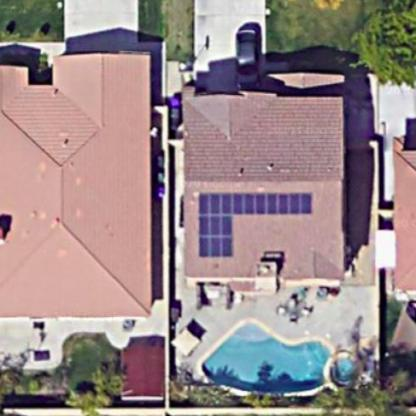car: (228, 23, 266, 91)
solar_panel: (189, 182, 320, 262)
swimming_pool: (184, 309, 373, 400)
